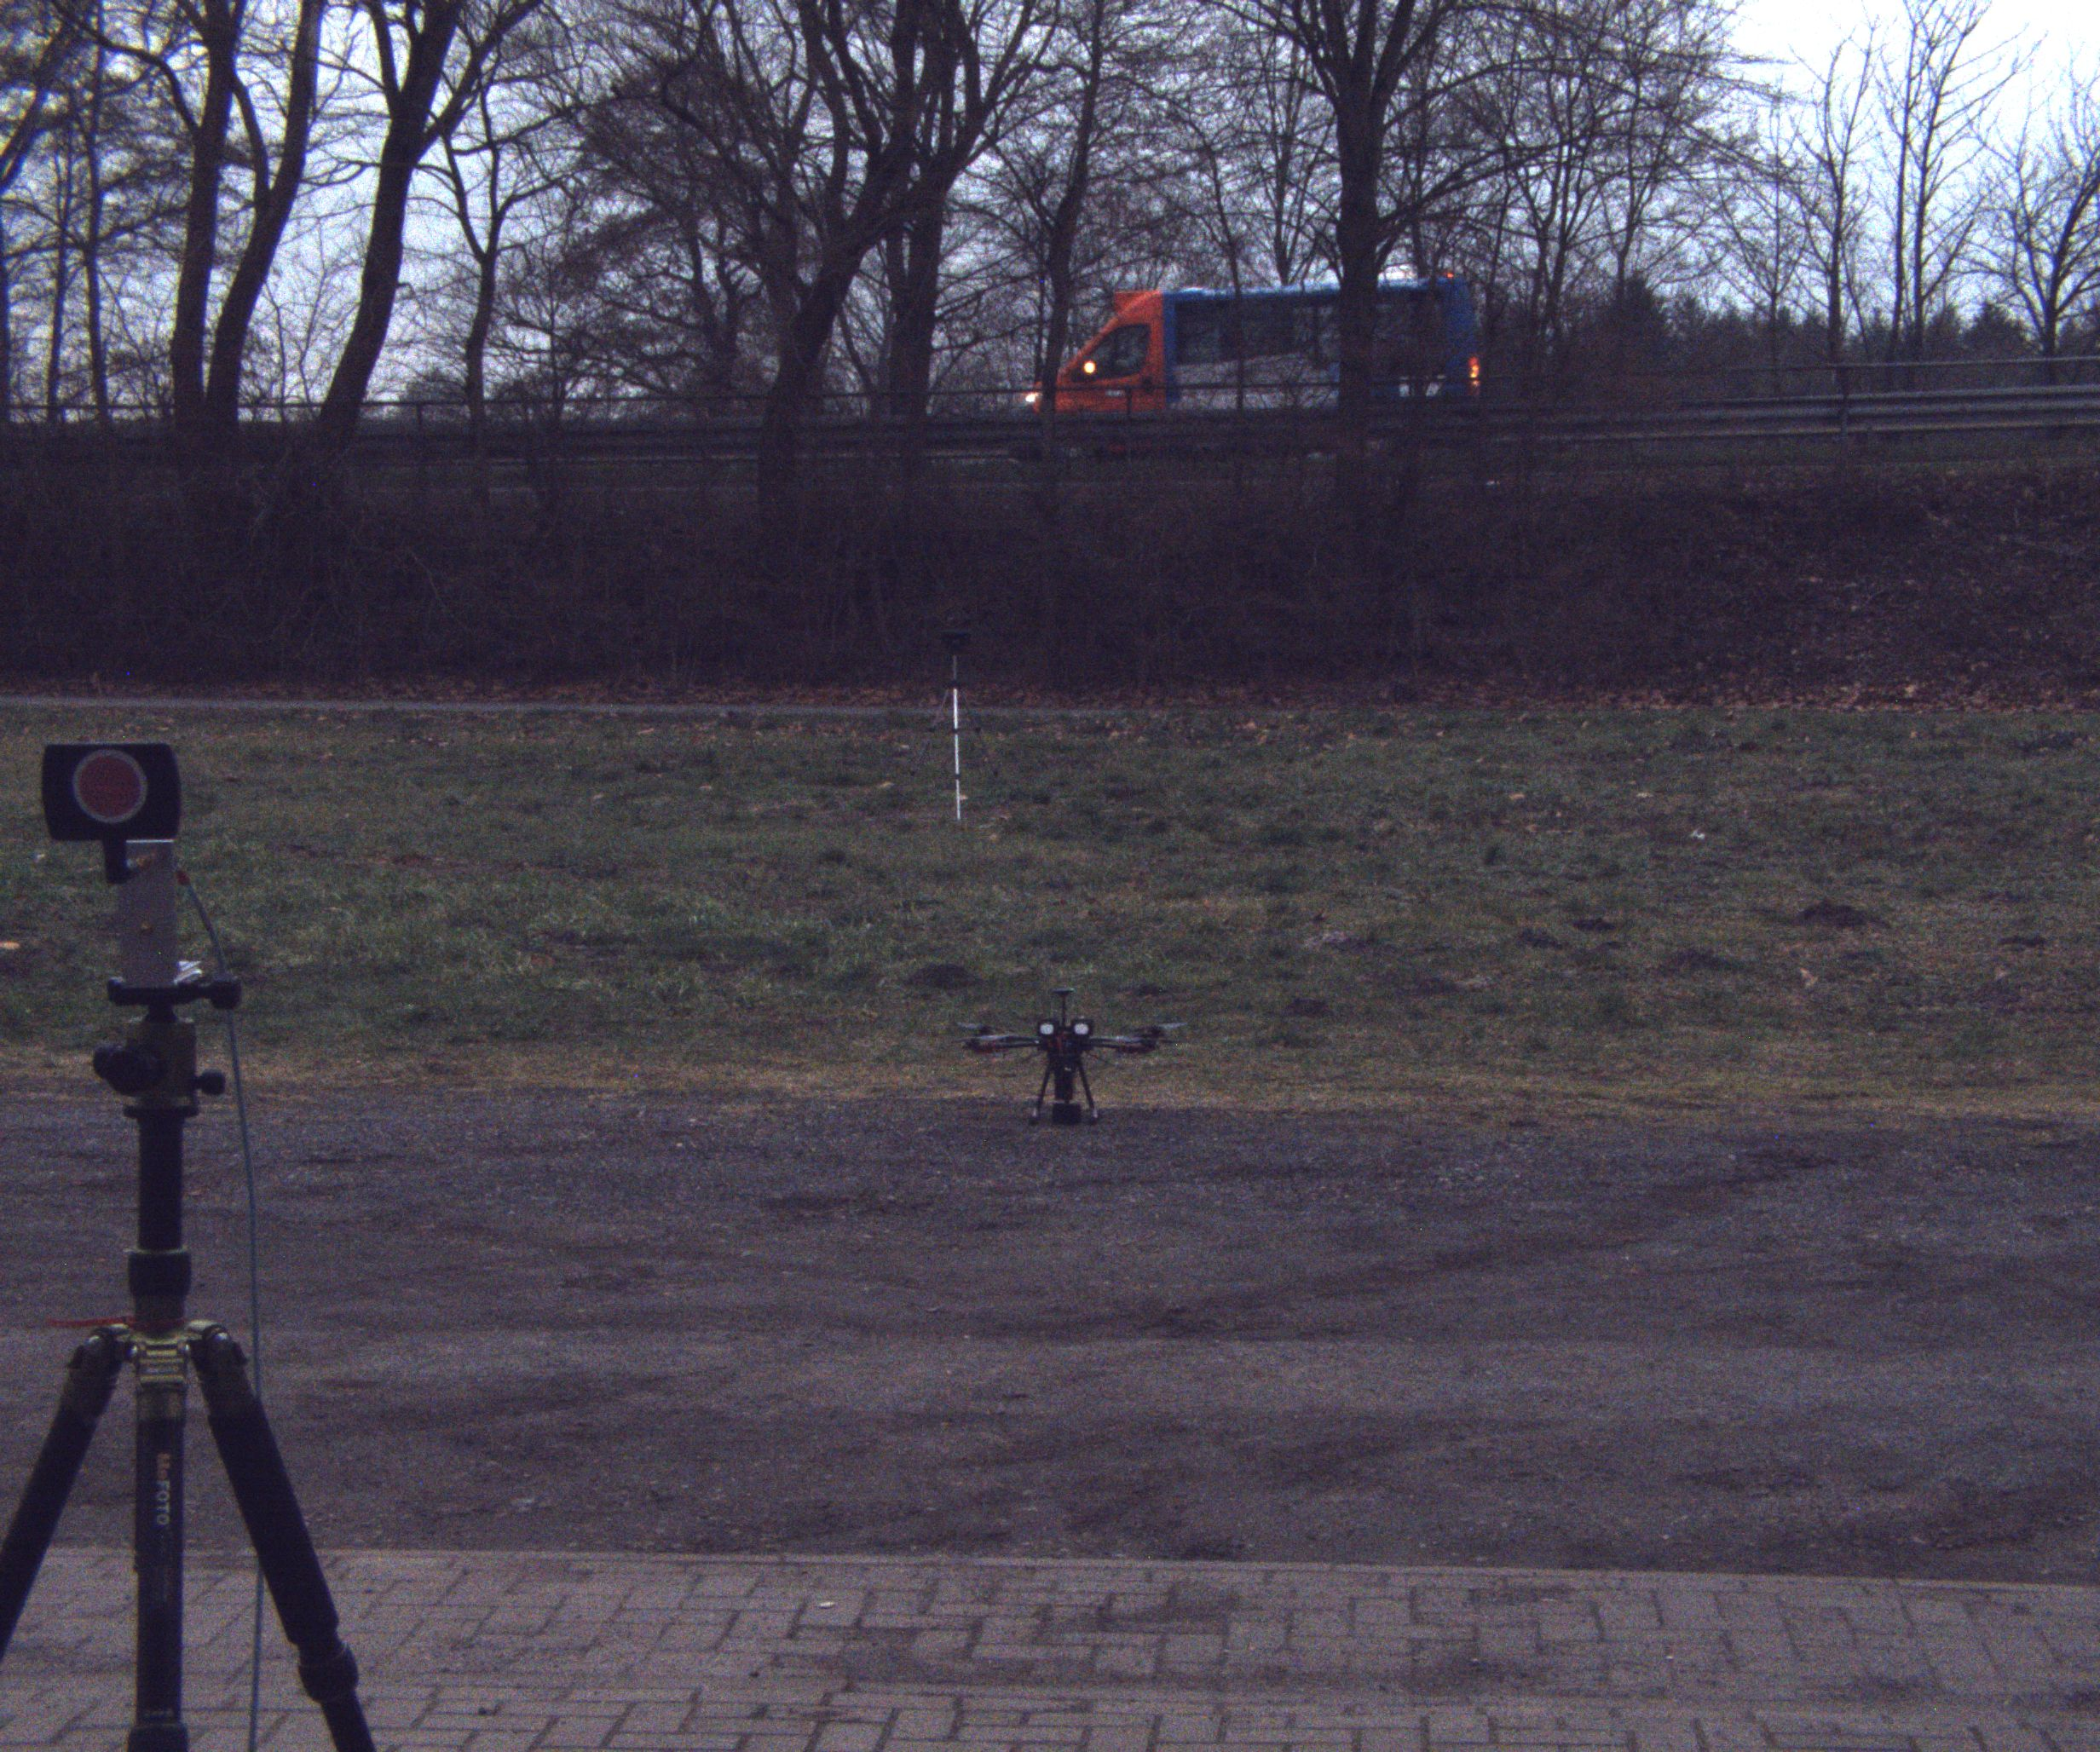Drohne: (924, 955, 1202, 1140)
